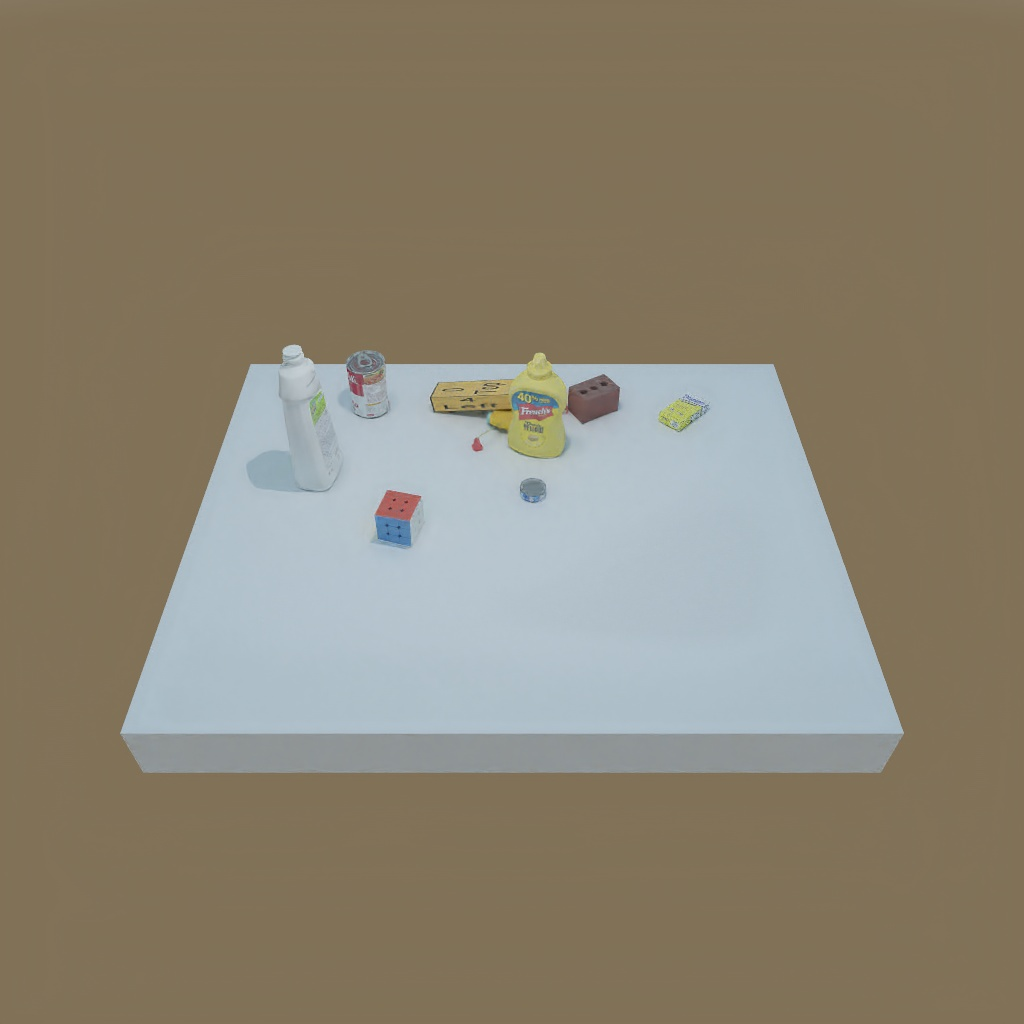jenga: (428, 374, 525, 417)
mustard_bottle: (511, 355, 569, 463)
rubiks_cube: (371, 490, 432, 544)
tomato_soup_can: (340, 347, 397, 418)
